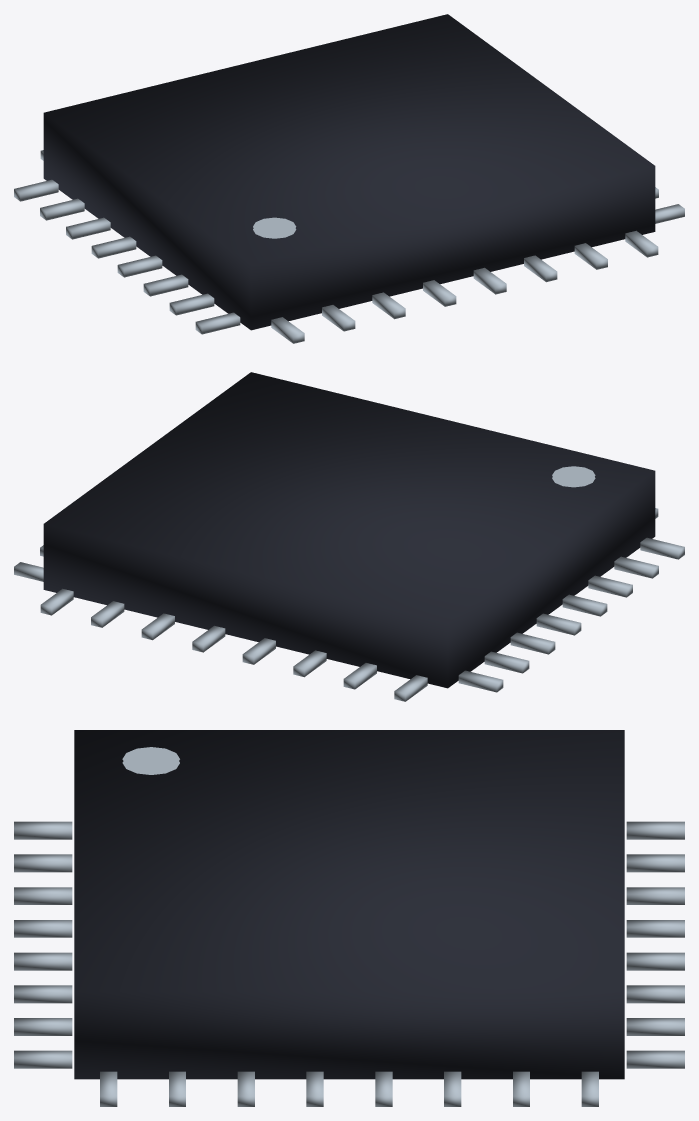
3 views of the same model, one above another, from view 1: azimuth 30°, elevation 25°; view 2: azimuth 150°, elevation 25°; view 3: azimuth 270°, elevation 25° (orthographic). The views are drawn at different scales.
Parts seen in each view (by area): view 1: L105_U4_chip, L105_U4_silver; view 2: L105_U4_chip, L105_U4_silver; view 3: L105_U4_chip, L105_U4_silver.
Part boxes in pixels (x1=…): L105_U4_chip: x1=43, y1=14, x2=655, y2=330; L105_U4_silver: x1=14, y1=150, x2=684, y2=343; L105_U4_chip: x1=43, y1=372, x2=655, y2=688; L105_U4_silver: x1=14, y1=466, x2=684, y2=701; L105_U4_chip: x1=74, y1=730, x2=624, y2=1079; L105_U4_silver: x1=14, y1=747, x2=684, y2=1106.
Size of the model in its own units: 0.0108 by 0.00151 by 0.00975.
